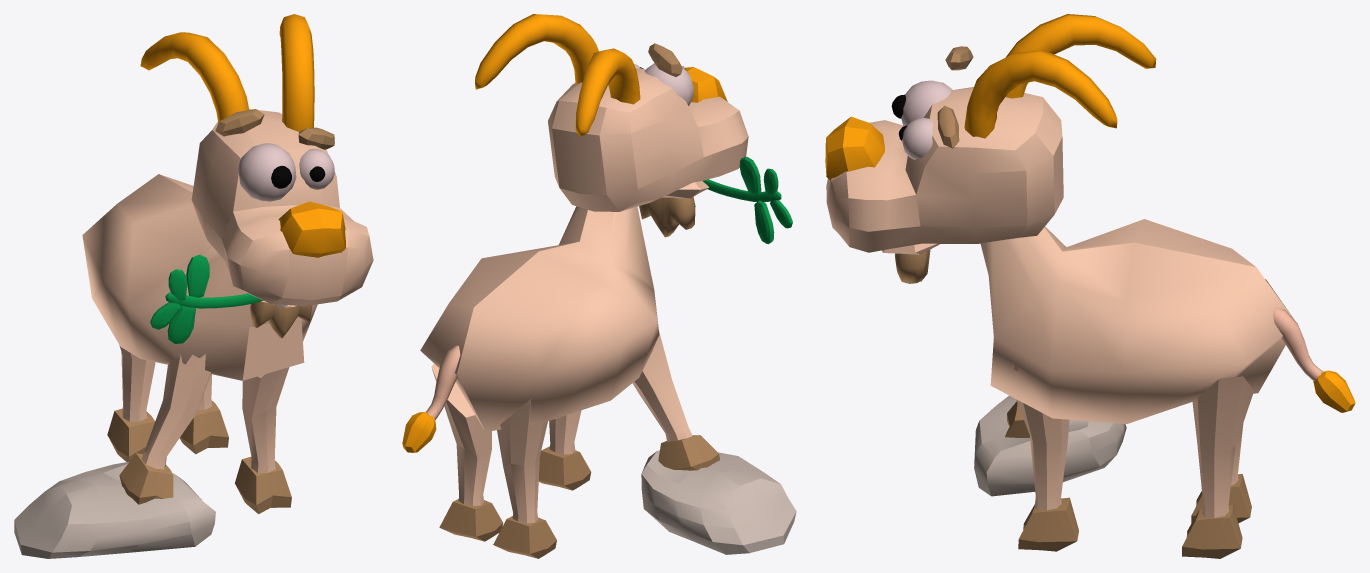
The model's file is elf18.glb.
3 renders of one model, left to right at view 1: azimuth 30°, elevation 25°; view 2: azimuth 150°, elevation 25°; view 3: azimuth 270°, elevation 25°, orthographic. The views are drawn at different scales.
Parts seen in each view (by area): view 1: Cube 12, Cube 13, Cube 24, Subdiv 12 (×4), Subdiv 18, Cube 7, Cube 17, Sphere, Cube 16, Subdiv 16 (×2), Subdiv 11, Cube 11 (+7 smaller); view 2: Cube 12, Cube 13, Cube 24, Subdiv 12 (×4), Subdiv 11 (×2), Cube 7, Cube 16, Subdiv 18, Cube 11, Cube 21, Subdiv 16 (×2), Cube 14 (+5 smaller); view 3: Cube 12, Cube 13, Subdiv 11 (×2), Cube 24, Cube 7, Subdiv 12 (×2), Subdiv 18, Cube 17, Cube 14, Sphere, Cube 15, Sphere 2 (+3 smaller).
Part boxes in pixels (bbox=[...]): Cube 12: bbox=[82, 174, 317, 380]; Cube 13: bbox=[191, 109, 373, 306]; Cube 24: bbox=[14, 461, 215, 558]; Subdiv 12 (×4): bbox=[119, 354, 291, 514]; Subdiv 18: bbox=[140, 32, 249, 122]; Cube 7: bbox=[279, 14, 314, 131]; Cube 17: bbox=[278, 201, 345, 257]; Sphere: bbox=[238, 143, 296, 201]; Cube 16: bbox=[119, 345, 155, 421]; Subdiv 16 (×2): bbox=[167, 254, 209, 343]; Subdiv 11: bbox=[179, 400, 228, 454]; Cube 11: bbox=[107, 408, 154, 461]; Cube 12: bbox=[420, 206, 659, 431]; Cube 13: bbox=[548, 68, 748, 211]; Cube 24: bbox=[641, 450, 796, 554]; Subdiv 12 (×4): bbox=[538, 331, 719, 490]; Subdiv 11 (×2): bbox=[431, 363, 503, 541]; Cube 7: bbox=[475, 14, 598, 89]; Cube 16: bbox=[497, 399, 547, 523]; Subdiv 18: bbox=[575, 48, 640, 136]; Cube 11: bbox=[493, 516, 556, 558]; Cube 21: bbox=[639, 197, 695, 237]; Subdiv 16 (×2): bbox=[739, 157, 774, 244]; Cube 14: bbox=[426, 345, 460, 419]; Cube 12: bbox=[980, 219, 1294, 423]; Cube 13: bbox=[826, 87, 1063, 252]; Subdiv 11 (×2): bbox=[1182, 376, 1253, 558]; Cube 24: bbox=[974, 395, 1126, 496]; Cube 7: bbox=[964, 50, 1117, 138]; Subdiv 12 (×2): bbox=[1013, 365, 1078, 551]; Subdiv 18: bbox=[1005, 14, 1156, 98]; Cube 17: bbox=[825, 116, 884, 180]; Cube 14: bbox=[1273, 307, 1323, 381]; Sphere: bbox=[901, 80, 952, 126]; Cube 15: bbox=[1313, 370, 1355, 412]; Sphere 2: bbox=[902, 118, 933, 159].
Size of the model in its own units: 4.27 by 6.54 by 6.17.
